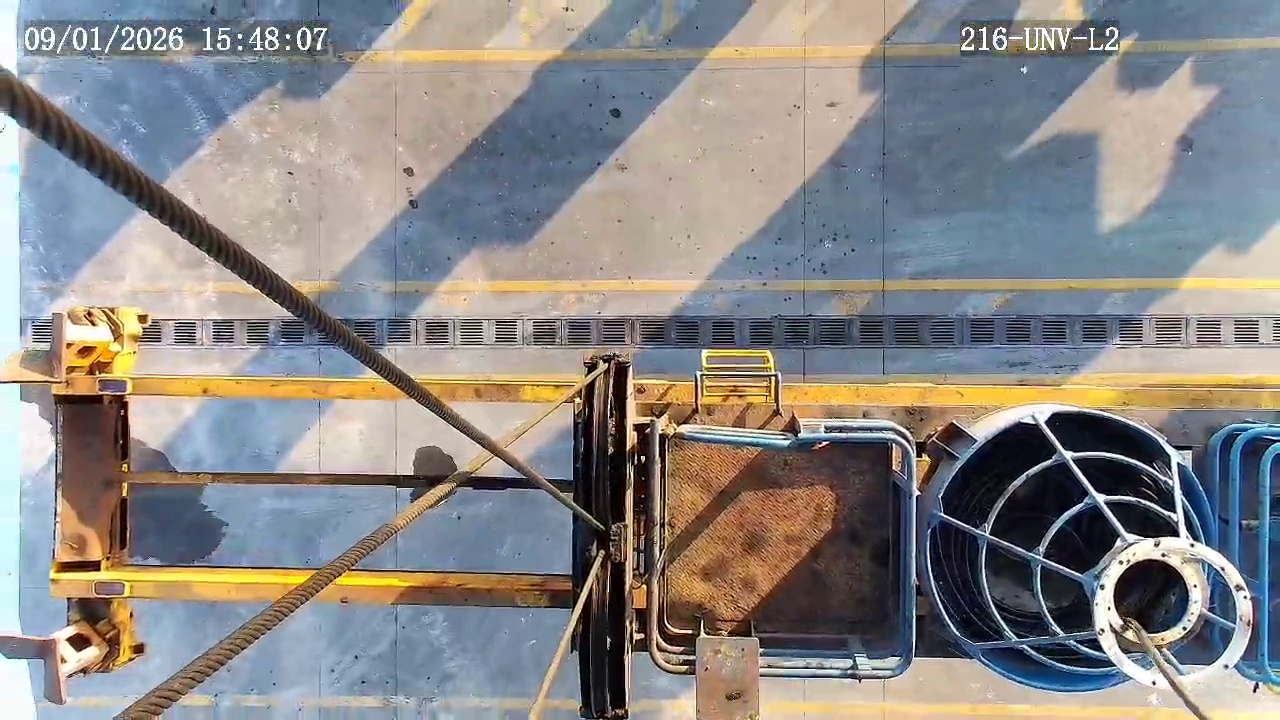left: (1092, 535, 1253, 689)
